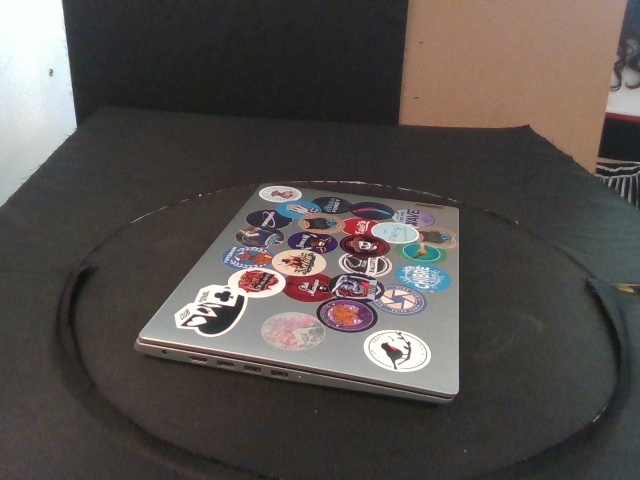laptop: (134, 183, 459, 404)
